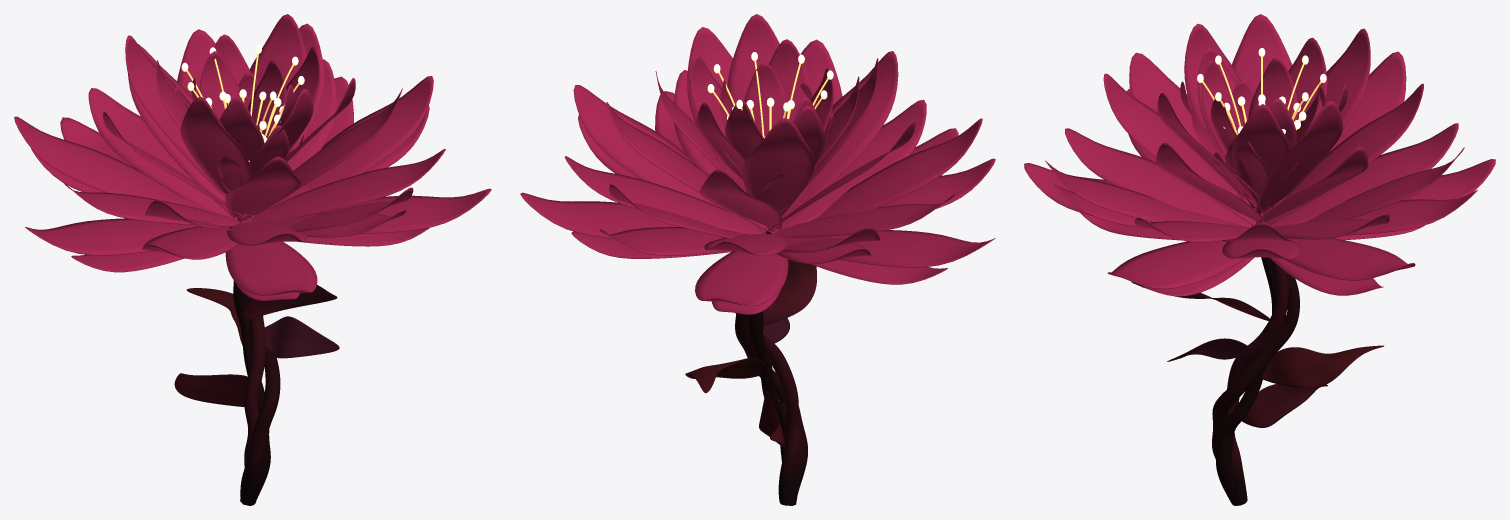
Rendered from lotus_final.fbx.
3 views of the same model, side by side, from view 1: azimuth 30°, elevation 25°; view 2: azimuth 150°, elevation 25°; view 3: azimuth 270°, elevation 25° (orthographic). The views are drawn at different scales.
Visible parts, largest first — view 1: Study_B_Unified_Living_Braid, Petal_Outer_03, Petal_LowerBridge_02, Petal_LowerBridge_05, Petal_Lower_04, Petal_Outer_01, Petal_Lower_03, Petal_Middle_03, Petal_Lower_05, Petal_Middle_02, Petal_Extra_04, Petal_LowerBridge_03 (+33 smaller); view 2: Study_B_Unified_Living_Braid, Petal_Outer_04, Petal_Middle_02, Petal_LowerBridge_01, Petal_Extra_04, Petal_Lower_02, Petal_Outer_01, Petal_Lower_03, Petal_Lower_01, Petal_LowerBridge_04, Petal_LowerBridge_03, Petal_LowerFill_02 (+31 smaller); view 3: Study_B_Unified_Living_Braid, Petal_LowerBridge_04, Petal_LowerBridge_02, Petal_Lower_05, Petal_Extra_04, Petal_Lower_01, Petal_Extra_02, Petal_Middle_01, Leaf_02_FrontRight, Petal_Outer_05, Petal_Outer_03, Petal_Fill_01 (+30 smaller).
Part boxes in pixels (x1,y1,x2,y2): Study_B_Unified_Living_Braid: (233,280,280,505); Petal_Outer_03: (14,116,163,200); Petal_LowerBridge_02: (88,88,232,217); Petal_LowerBridge_05: (249,148,445,222); Petal_Lower_04: (225,241,317,295); Petal_Outer_01: (305,76,433,189); Petal_Lower_03: (25,218,199,255); Petal_Middle_03: (181,97,252,194); Petal_Lower_05: (321,188,491,233); Petal_Middle_02: (125,35,251,218); Petal_Extra_04: (225,156,300,218); Petal_LowerBridge_03: (64,183,239,226); Study_B_Unified_Living_Braid: (735,231,807,505); Petal_Outer_04: (817,118,982,219); Petal_Middle_02: (743,118,814,215); Petal_LowerBridge_01: (564,156,764,234); Petal_Extra_04: (771,51,898,234); Petal_Lower_02: (695,251,788,306); Petal_Outer_01: (573,85,703,199); Petal_Lower_03: (822,230,995,267); Petal_Lower_01: (520,192,679,238); Petal_LowerBridge_04: (781,99,926,229); Petal_LowerBridge_03: (774,193,955,237); Petal_LowerFill_02: (599,227,746,255); Study_B_Unified_Living_Braid: (1212,257,1299,505); Petal_LowerBridge_04: (1065,128,1251,227); Petal_LowerBridge_02: (1272,123,1458,226); Petal_Lower_05: (1107,241,1246,288); Petal_Extra_04: (1103,73,1256,225); Petal_Lower_01: (1283,238,1415,280); Petal_Extra_02: (1266,83,1423,224); Petal_Middle_01: (1256,101,1342,213); Leaf_02_FrontRight: (1261,345,1383,388); Petal_Outer_05: (1045,160,1187,222); Petal_Outer_03: (1328,51,1406,152); Petal_Fill_01: (1232,104,1291,208).
Bounding box in the file's own units: 160 × 164 × 157.
